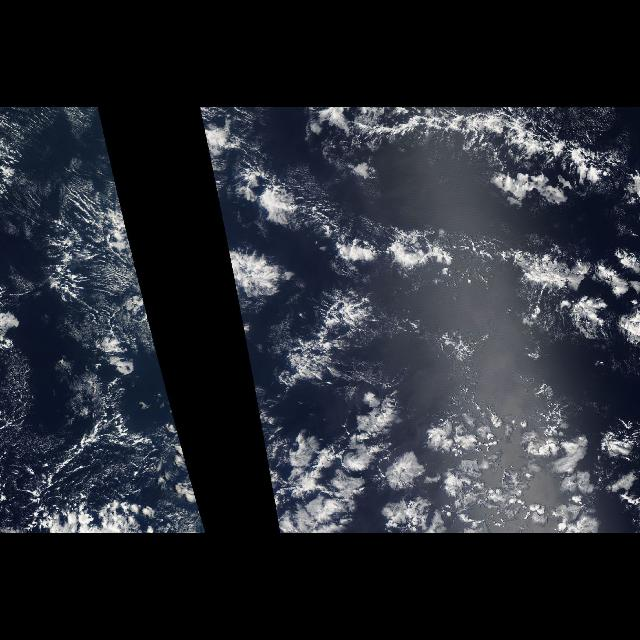Flower: (218, 162, 628, 386), (272, 395, 634, 533)
Sugar: (1, 109, 153, 434)
